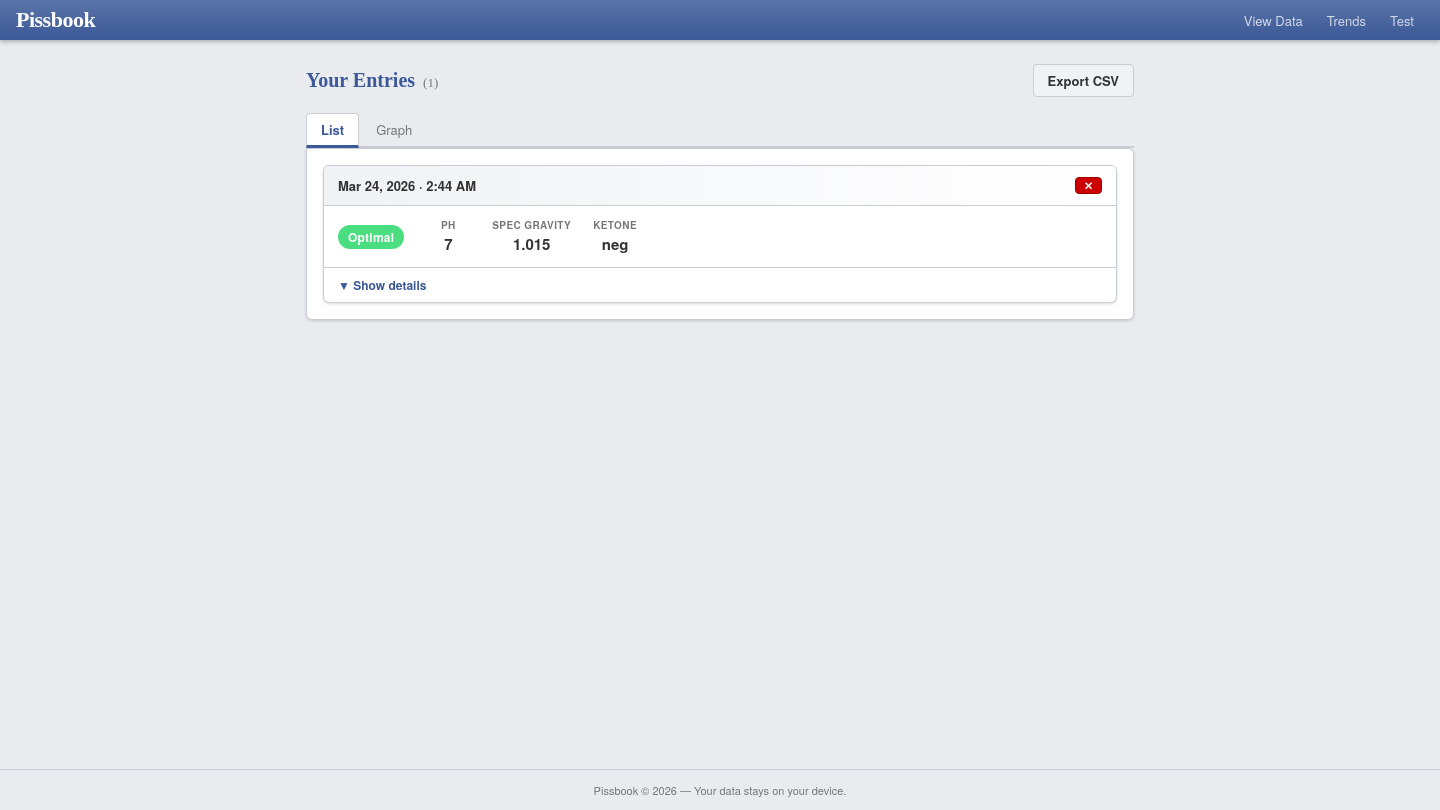
Test: ViewDataPage › deletes an entry when the delete button is clicked
Click the button with test id "delete-e1": click(1088, 186) [1075, 177, 1102, 194]
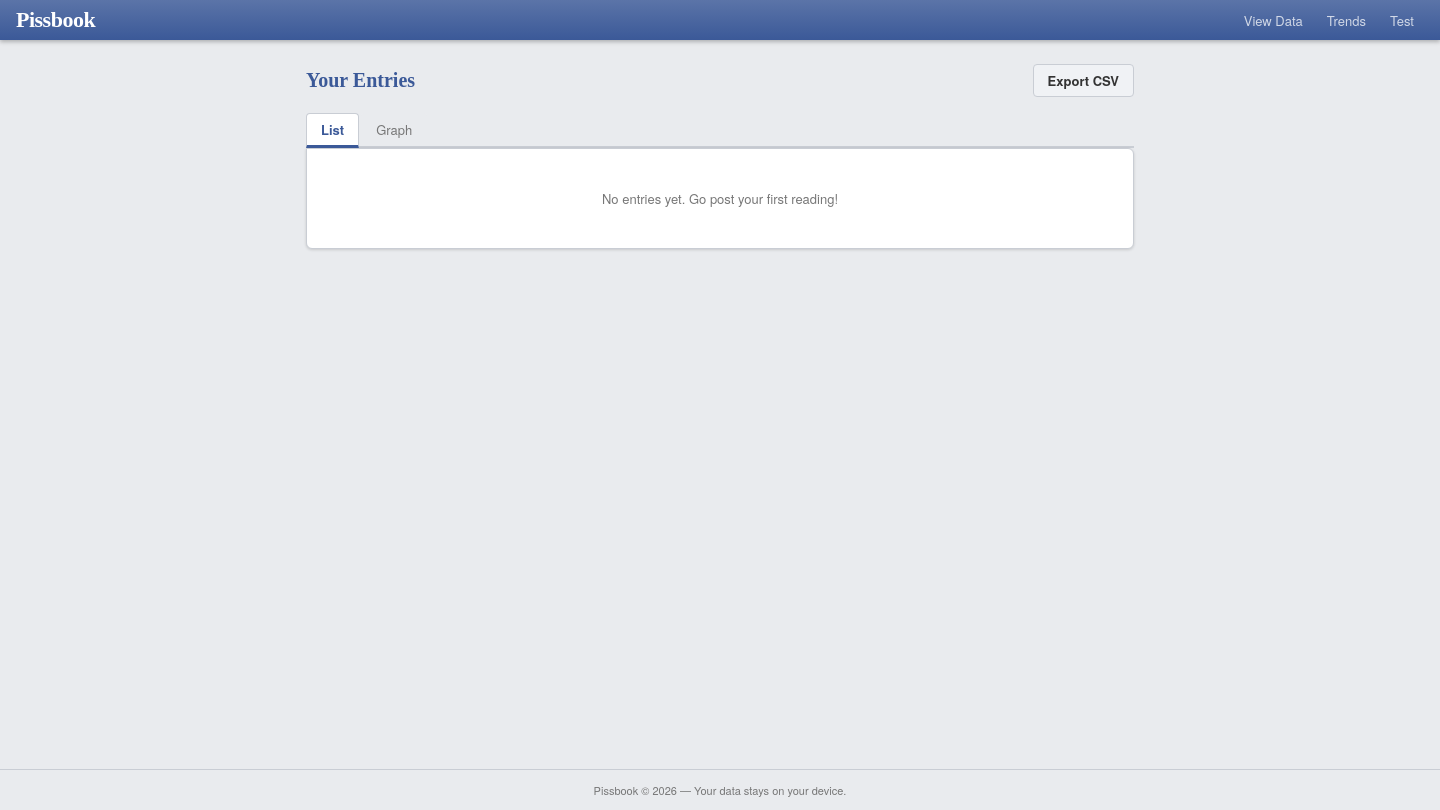
Result: the element with test id "entry-row-e1" is gone
